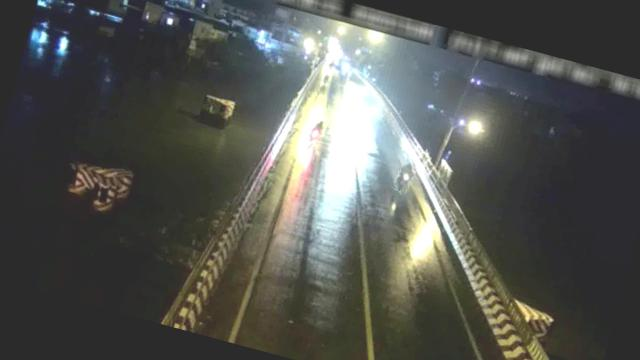Bike: (392, 156, 418, 194), (306, 114, 328, 146)
